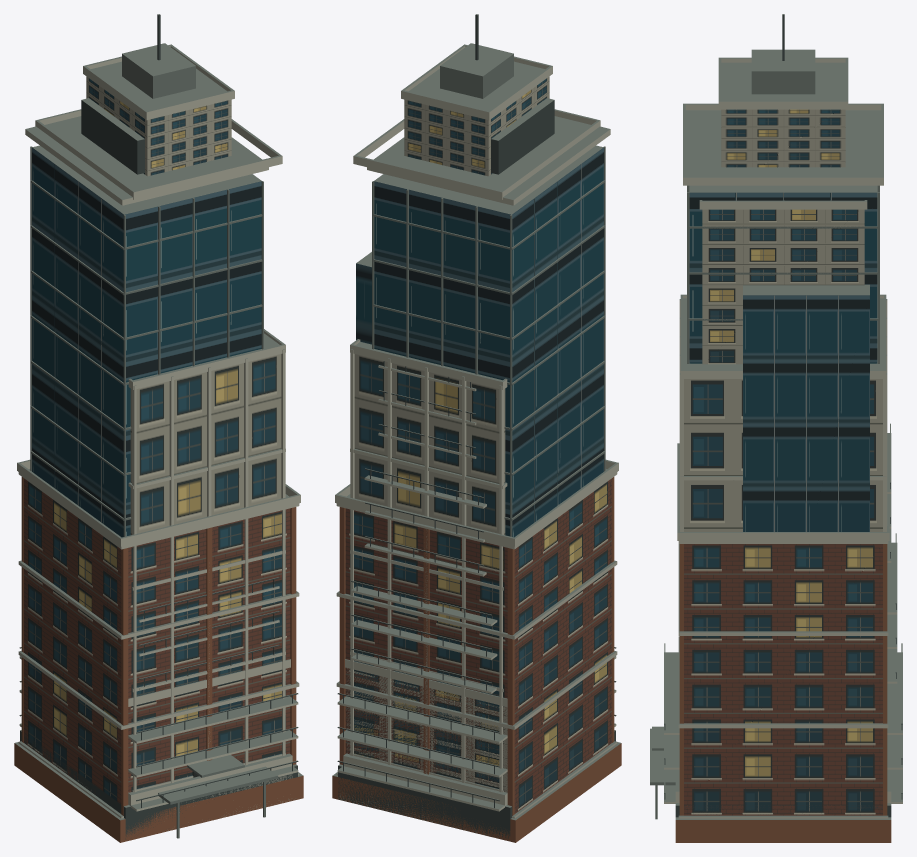
The model's file is new-eden-kit.glb.
3 renders of one model, left to right at view 1: azimuth 30°, elevation 25°; view 2: azimuth 150°, elevation 25°; view 3: azimuth 270°, elevation 25°, orthographic. The views are drawn at different scales.
Visible parts, largest first — view 1: GlassTower, BrickWorks, LimestoneTower, TerraceApartments; view 2: GlassTower, BrickWorks, LimestoneTower, TerraceApartments; view 3: BrickWorks, GlassTower, LimestoneTower, TerraceApartments.
Boxes of the visible parts, x1,y1,x2,y2 form: GlassTower: (20, 98, 297, 839); BrickWorks: (14, 459, 303, 842); LimestoneTower: (83, 14, 292, 819); TerraceApartments: (19, 577, 298, 830); GlassTower: (338, 98, 615, 838); BrickWorks: (332, 459, 621, 842); LimestoneTower: (343, 14, 552, 815); TerraceApartments: (337, 361, 616, 837); BrickWorks: (652, 443, 891, 842); GlassTower: (650, 103, 891, 819); LimestoneTower: (675, 14, 891, 801); TerraceApartments: (664, 423, 902, 803).
Bounding box in the file's own units: 17 × 68 × 19.9.
Materials: 1 (1 with a texture image).
